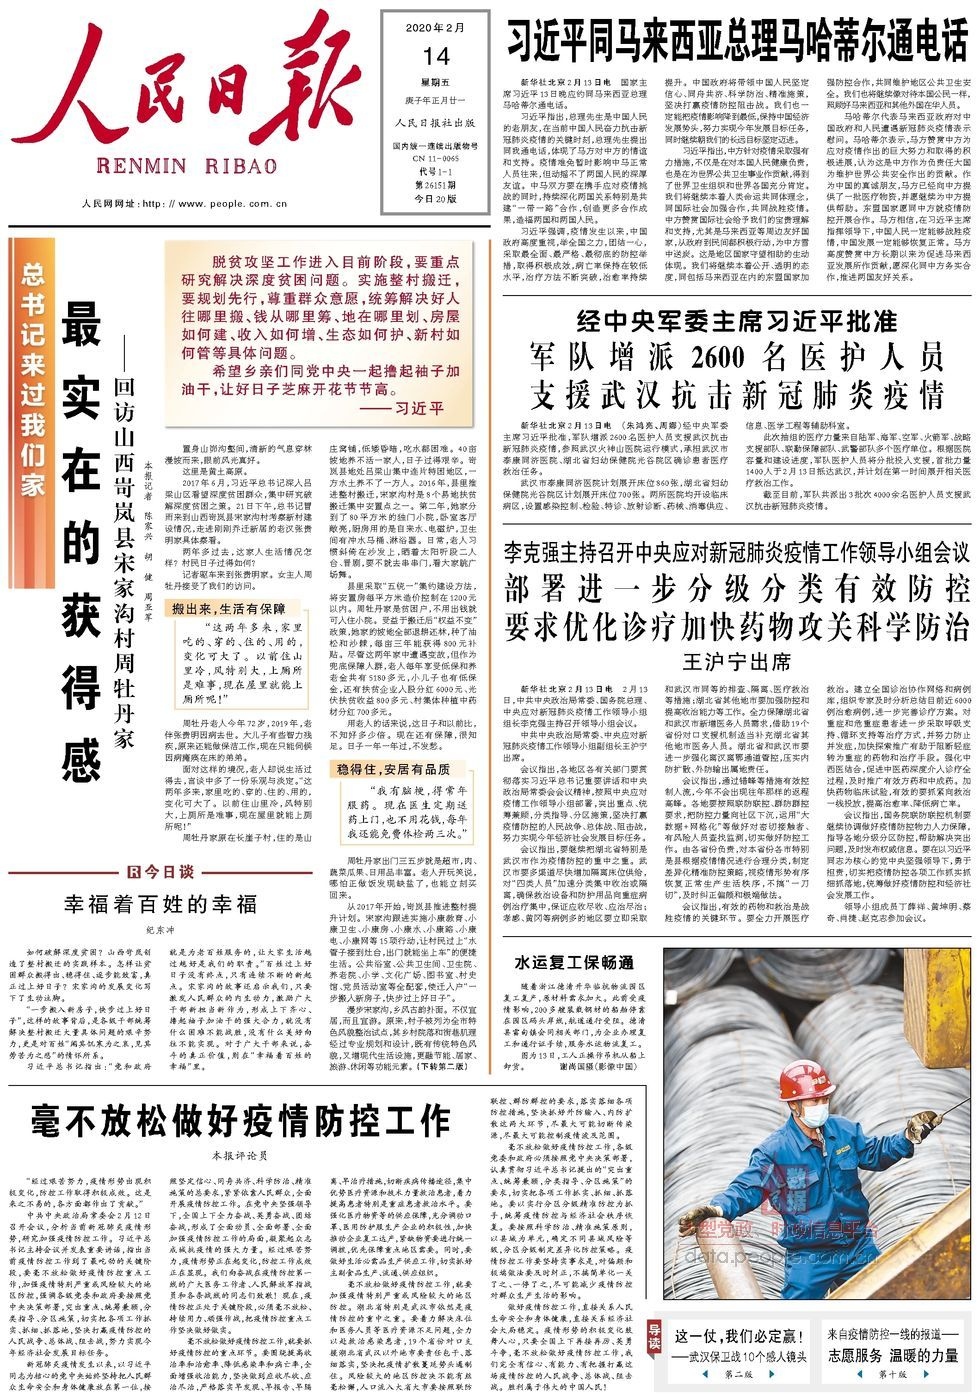pic: (659, 941, 977, 1307)
